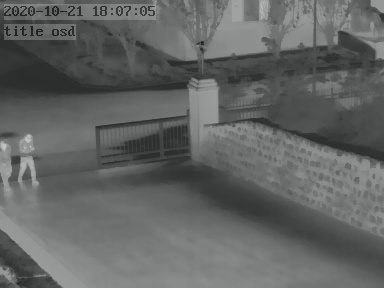person: (16, 132, 37, 184), (1, 139, 15, 187)
